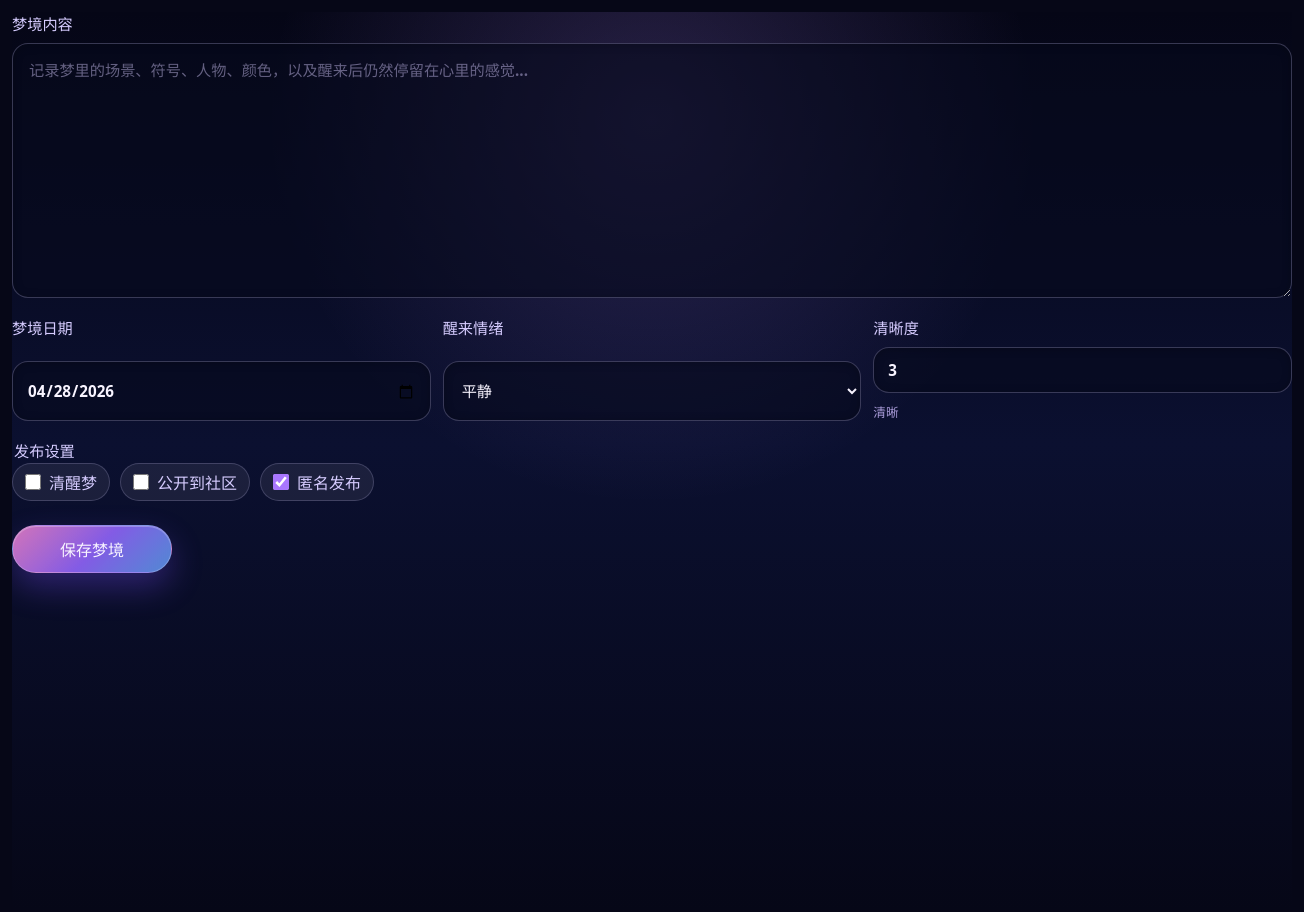
Test case: DreamForm › does not submit when the dream date is empty
This screenshot has width=1304, height=912.
Type "我穿过一座被月光照亮的花园，发现了一扇蓝色的门。" into the text box labelled "梦境内容" at x=652, y=171, box [12,43,1292,298]
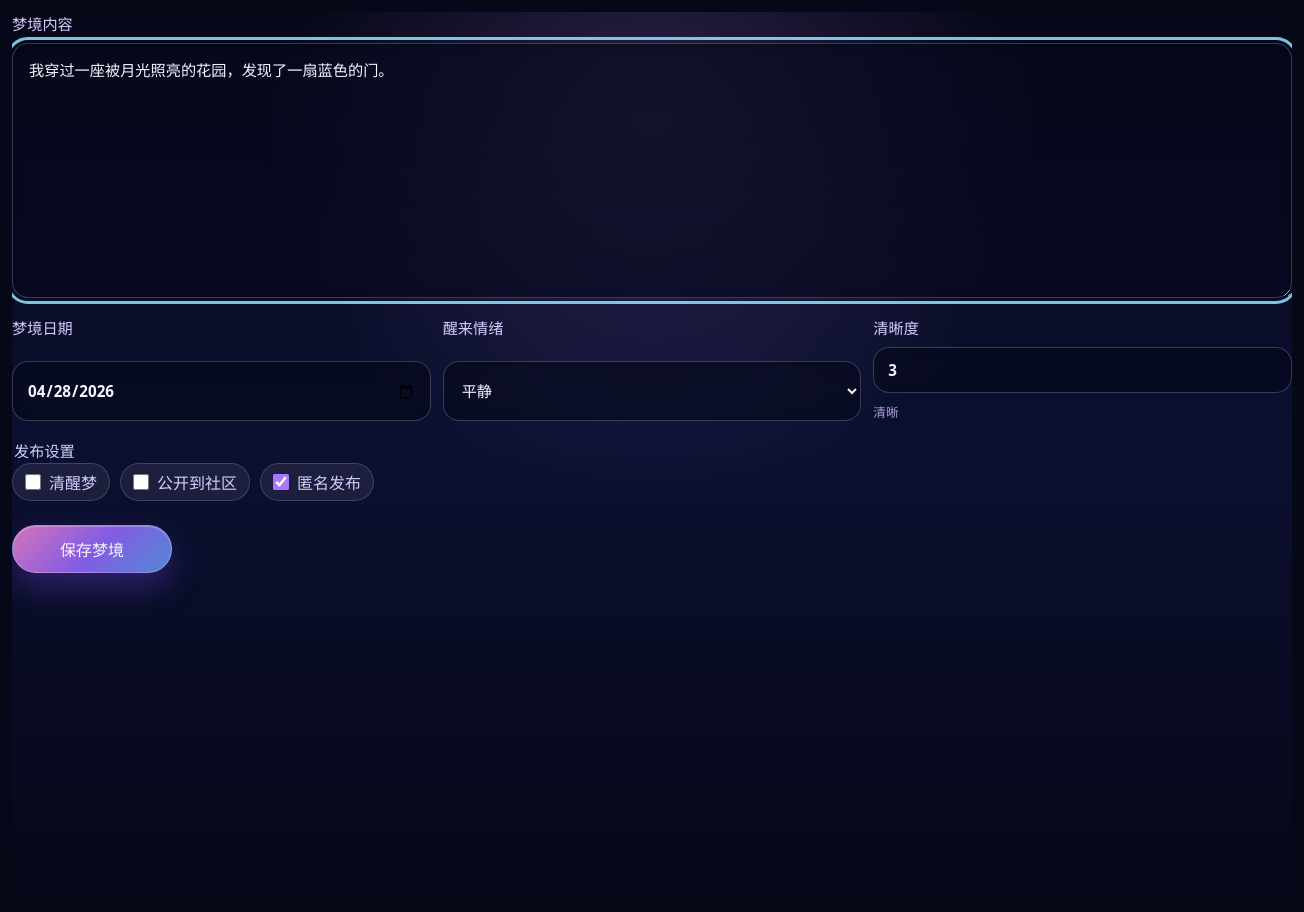
Clear the date field labelled "梦境日期" at x=221, y=391, box [12,361,431,421]
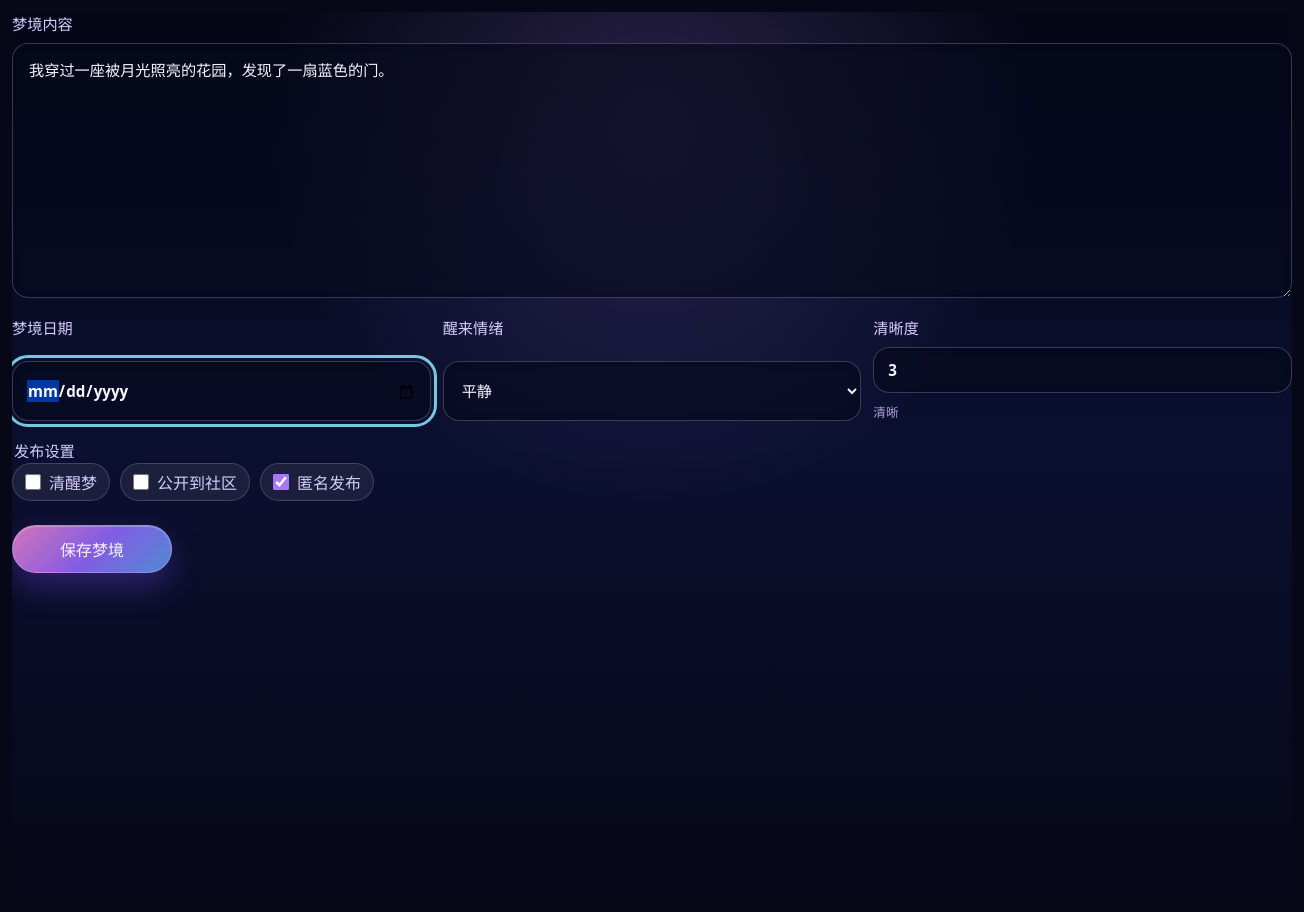
Click the button "保存梦境" at x=92, y=549, box [12,525,172,573]
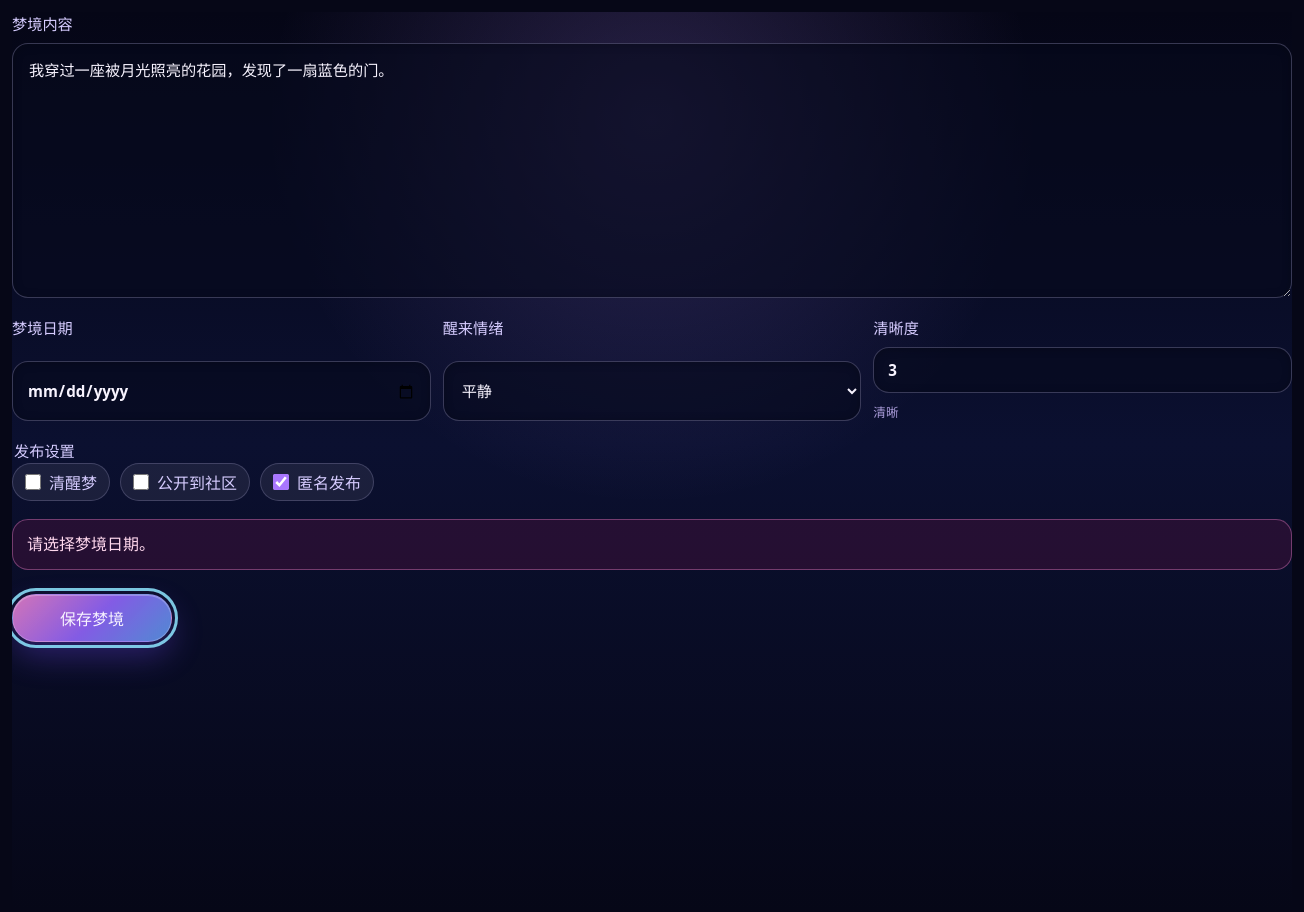
Result: the message shows "请选择梦境日期" at [27,533,155,555]
